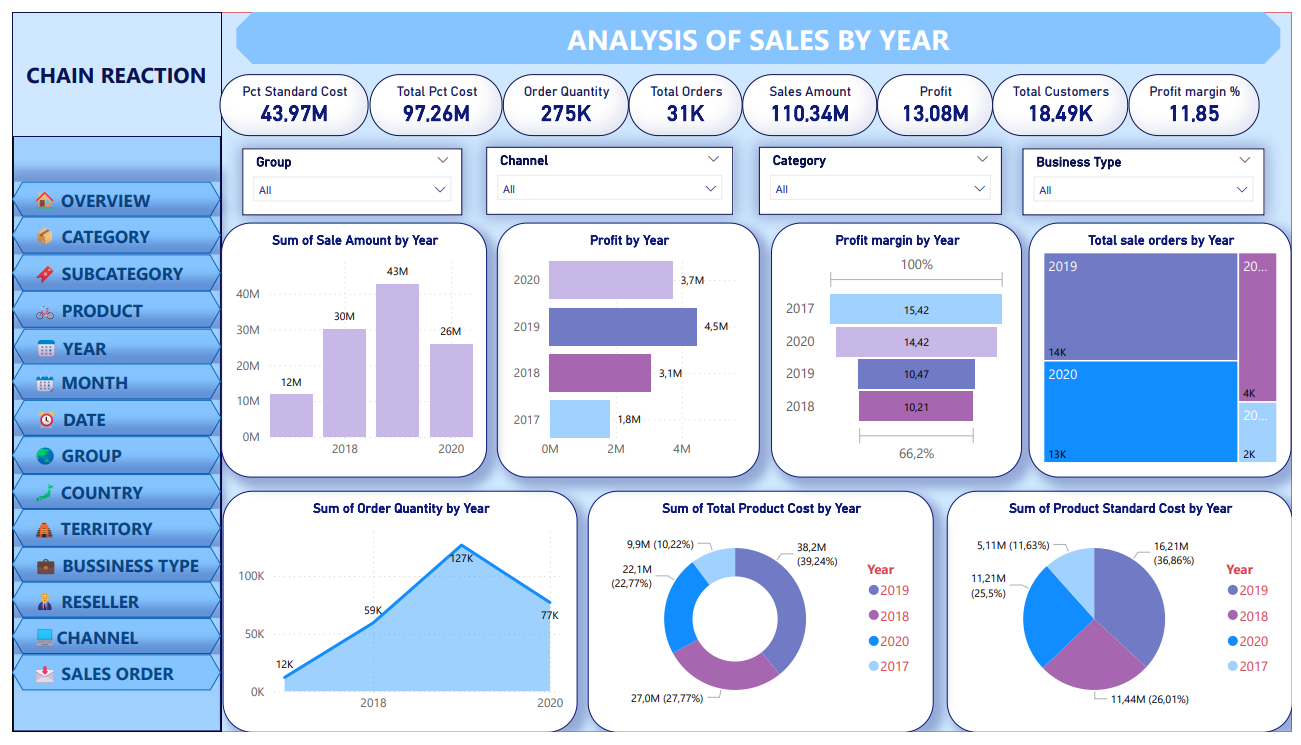

Layout of this report page (visuals, bound fields, positions):
{"tool":"powerbi","page":{"name":"Year","canvas":[1280,720],"ordinal":6},"visuals":[{"type":"shape","box":[207.6,0,1072.4,720.2],"z":0},{"type":"shape","box":[0,0,209.9,720.4],"z":1000},{"type":"shape","box":[0.4,0,209.1,124.7],"z":2000},{"type":"shape","box":[0,170.1,208.6,35],"z":3000},{"type":"shape","box":[0,205,209,37],"z":4000},{"type":"shape","box":[0,242,209,37],"z":5000},{"type":"shape","box":[0,279,209,37],"z":6000},{"type":"shape","box":[1,316,208,36],"z":7000},{"type":"shape","box":[0,352,209,36],"z":8000},{"type":"shape","box":[1,388,208,36],"z":9000},{"type":"shape","box":[0,424,208,38],"z":10000},{"type":"shape","box":[0,462,209,35],"z":11000},{"type":"shape","box":[0,497,209,38],"z":12000},{"type":"shape","box":[0,535,209,35],"z":13000},{"type":"shape","box":[0,570,209,36],"z":14000},{"type":"shape","box":[0,606,209,36],"z":15000},{"type":"shape","box":[0,642,209,36],"z":16000},{"type":"card","title":"Order Quantity","fields":{"Values":["Sum(Sales.Order Quantity)"]},"box":[490.4,62.4,126,62.4],"z":17000},{"type":"card","title":"Pct Standard Cost","fields":{"Values":["Sum(Sales.Product Standard Cost)"]},"box":[207.9,62.4,149.2,62.4],"z":18000},{"type":"card","title":"Sales Amount","fields":{"Values":["Sum(Sales.Sale Amount)"]},"box":[730,62.4,134.5,62.4],"z":19000},{"type":"card","title":"Profit","fields":{"Values":["Sales.Profit"]},"box":[864.5,62.4,116.2,62.4],"z":20000},{"type":"card","title":"Total Pct Cost","fields":{"Values":["Sum(Sales.Total Product Cost)"]},"box":[357.1,62.4,133.3,62.4],"z":21000},{"type":"card","title":"Total Orders","fields":{"Values":["Sales.Total sale orders"]},"box":[616.3,62.4,113.7,62.4],"z":22000},{"type":"card","title":"Total Customers","fields":{"Values":["Count(Customer.Customer ID)"]},"box":[980.7,62.4,135.7,62.4],"z":23000},{"type":"card","title":"Profit margin %","fields":{"Values":["Sales.Profit margin"]},"box":[1116.4,62.4,130.8,62.4],"z":24000},{"type":"slicer","title":"Date","fields":{"Values":["Business Type.Business Type"]},"box":[1010.1,135.7,242.1,67.3],"z":25000},{"type":"slicer","title":"Category","fields":{"Values":["Category.Category"]},"box":[747.2,134.5,243.3,68.5],"z":26000},{"type":"slicer","title":"Channel","fields":{"Values":["Channel.Channel"]},"box":[474.5,134.5,247,68.5],"z":27000},{"type":"slicer","title":"Group","fields":{"Values":["Group.Group"]},"box":[229.9,135.7,220.1,67.3],"z":28000},{"type":"shape","title":"dbdbdjb","box":[223.7,0,1044.3,52.1],"z":29000},{"type":"pieChart","fields":{"Y":["Sum(Sales.Product Standard Cost)"],"Category":["Date.Year"]},"box":[934.2,478.5,345.8,241.5],"z":30000},{"type":"areaChart","fields":{"Category":["Date.Year"],"Y":["Sum(Sales.Order Quantity)"]},"box":[209.9,478.5,355.4,241.5],"z":31000},{"type":"donutChart","fields":{"Category":["Date.Year"],"Y":["Sum(Sales.Total Product Cost)"]},"box":[576.3,478.5,345.8,241.5],"z":32000},{"type":"clusteredBarChart","fields":{"Category":["Date.Year"],"Y":["Sales.Profit"]},"box":[484.4,209.9,263.5,255.2],"z":33000},{"type":"columnChart","fields":{"Category":["Date.Year"],"Y":["Sum(Sales.Sale Amount)"]},"box":[208.6,209.9,266.2,255.2],"z":34000},{"type":"funnel","fields":{"Category":["Date.Year"],"Y":["Sales.Profit margin"]},"box":[758.8,209.9,251.1,255.2],"z":35000},{"type":"treemap","fields":{"Group":["Date.Year"],"Values":["Sales.Total sale orders"]},"box":[1016.5,209.9,263.5,255.2],"z":36000}]}

Visuals, with their boxes in screenshot pixels (x1, y1, x2, y2), scaled from the page's 1280x720 canvas onto the 1301x745 screenshot:
shape: [211,0,1300,744]
shape: [0,0,213,744]
shape: [0,0,213,129]
shape: [0,176,212,212]
shape: [0,212,212,250]
shape: [0,250,212,289]
shape: [0,289,212,327]
shape: [1,327,212,364]
shape: [0,364,212,401]
shape: [1,401,212,439]
shape: [0,439,211,478]
shape: [0,478,212,514]
shape: [0,514,212,554]
shape: [0,554,212,590]
shape: [0,590,212,627]
shape: [0,627,212,664]
shape: [0,664,212,702]
"Order Quantity" card: [498,65,627,129]
"Pct Standard Cost" card: [211,65,363,129]
"Sales Amount" card: [742,65,879,129]
"Profit" card: [879,65,997,129]
"Total Pct Cost" card: [363,65,498,129]
"Total Orders" card: [626,65,742,129]
"Total Customers" card: [997,65,1135,129]
"Profit margin %" card: [1135,65,1268,129]
"Date" slicer: [1027,140,1273,210]
"Category" slicer: [759,139,1007,210]
"Channel" slicer: [482,139,733,210]
"Group" slicer: [234,140,457,210]
"dbdbdjb" shape: [227,0,1289,54]
pieChart - Sum(Sales.Product Standard Cost) x Date.Year: [950,495,1300,744]
areaChart - Date.Year x Sum(Sales.Order Quantity): [213,495,575,744]
donutChart - Date.Year x Sum(Sales.Total Product Cost): [586,495,937,744]
clusteredBarChart - Date.Year x Sales.Profit: [492,217,760,481]
columnChart - Date.Year x Sum(Sales.Sale Amount): [212,217,483,481]
funnel - Date.Year x Sales.Profit margin: [771,217,1026,481]
treemap - Date.Year x Sales.Total sale orders: [1033,217,1300,481]
